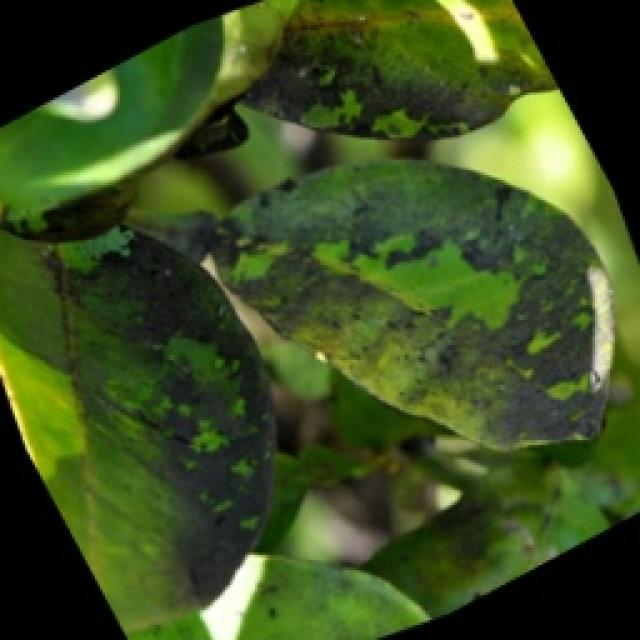Sooty Mold: (205, 155, 617, 453)
